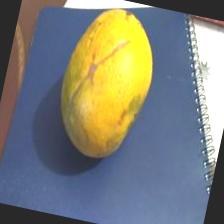Orange Rotten: (37, 0, 182, 184)
